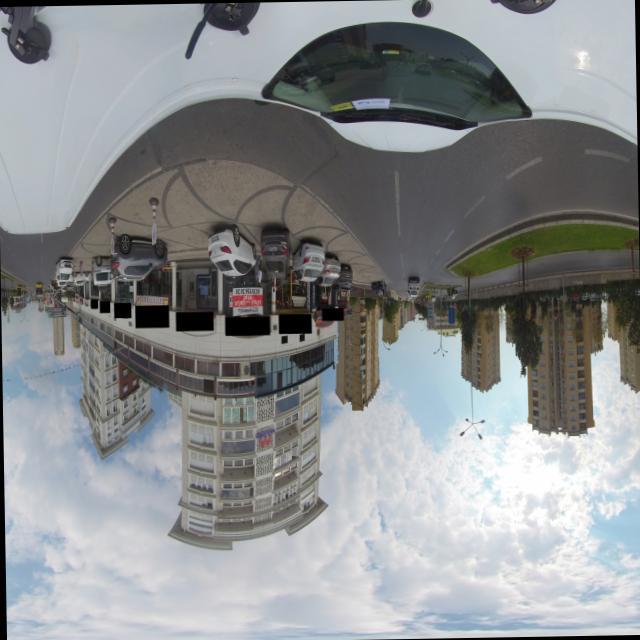SignStore: (224, 315, 269, 334), (134, 304, 168, 326), (174, 311, 212, 329), (277, 312, 310, 332), (320, 307, 342, 320), (113, 302, 130, 317), (98, 300, 109, 311), (89, 298, 97, 307)
